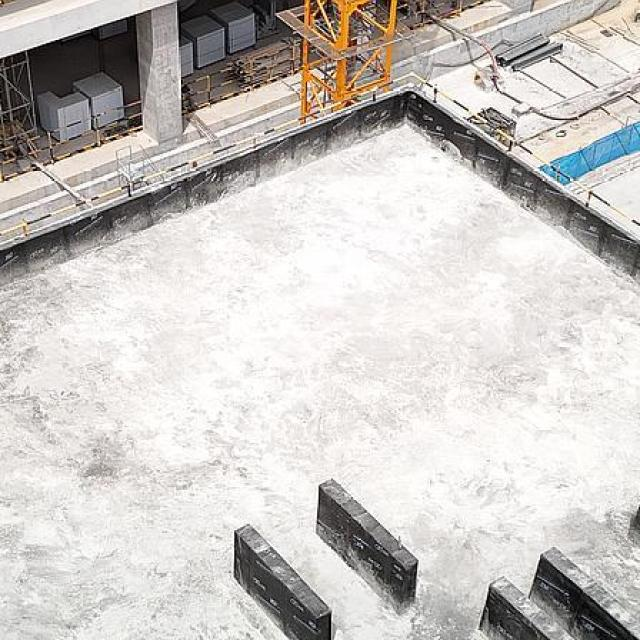edge_guardrail: (0, 70, 640, 240), (0, 99, 144, 182), (180, 41, 303, 114), (397, 0, 462, 33)
